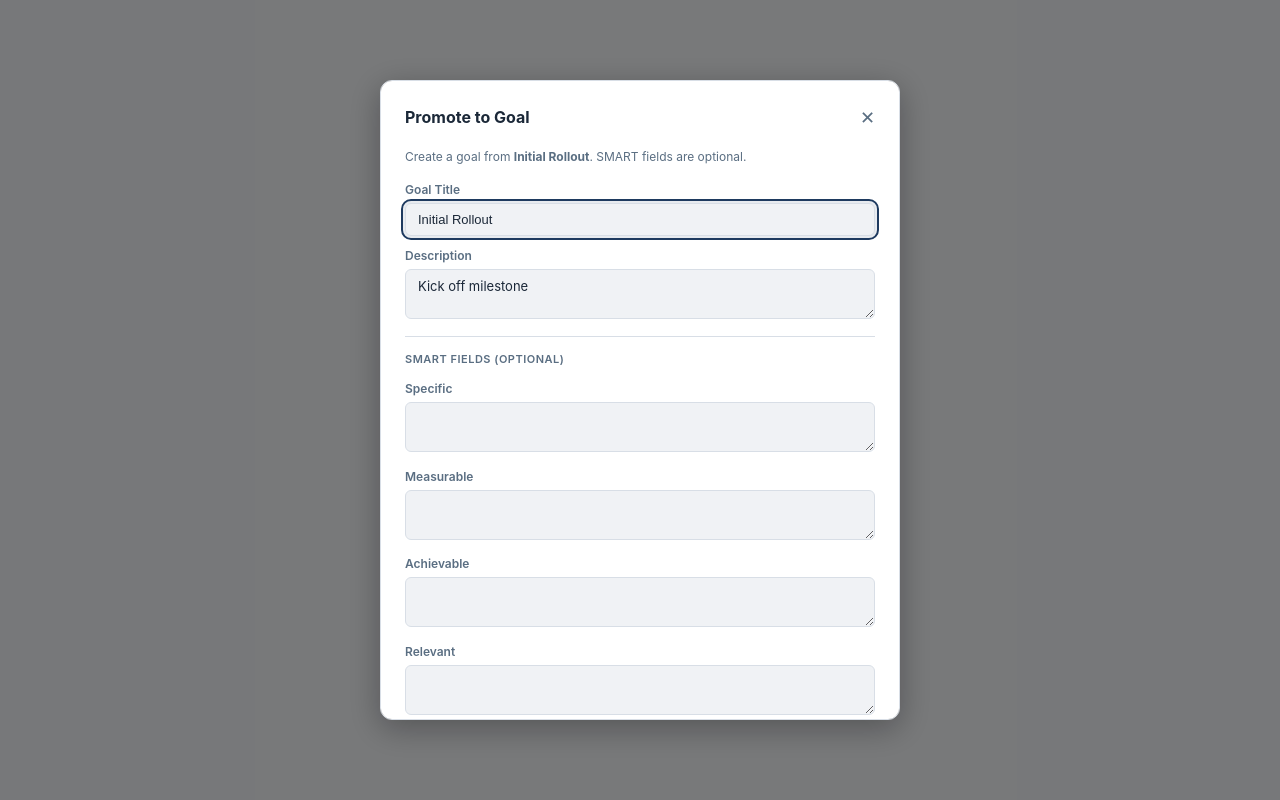
it: PromoteToGoal — dirty-state close guard (Task 9.14) › dirty Esc opens the DiscardConfirmDialog
The image size is (1280, 800).
Replace the text in the field named "Goal title" with "Extended goal title" at (640, 220), box top-left (405, 203), bottom-right (875, 236)
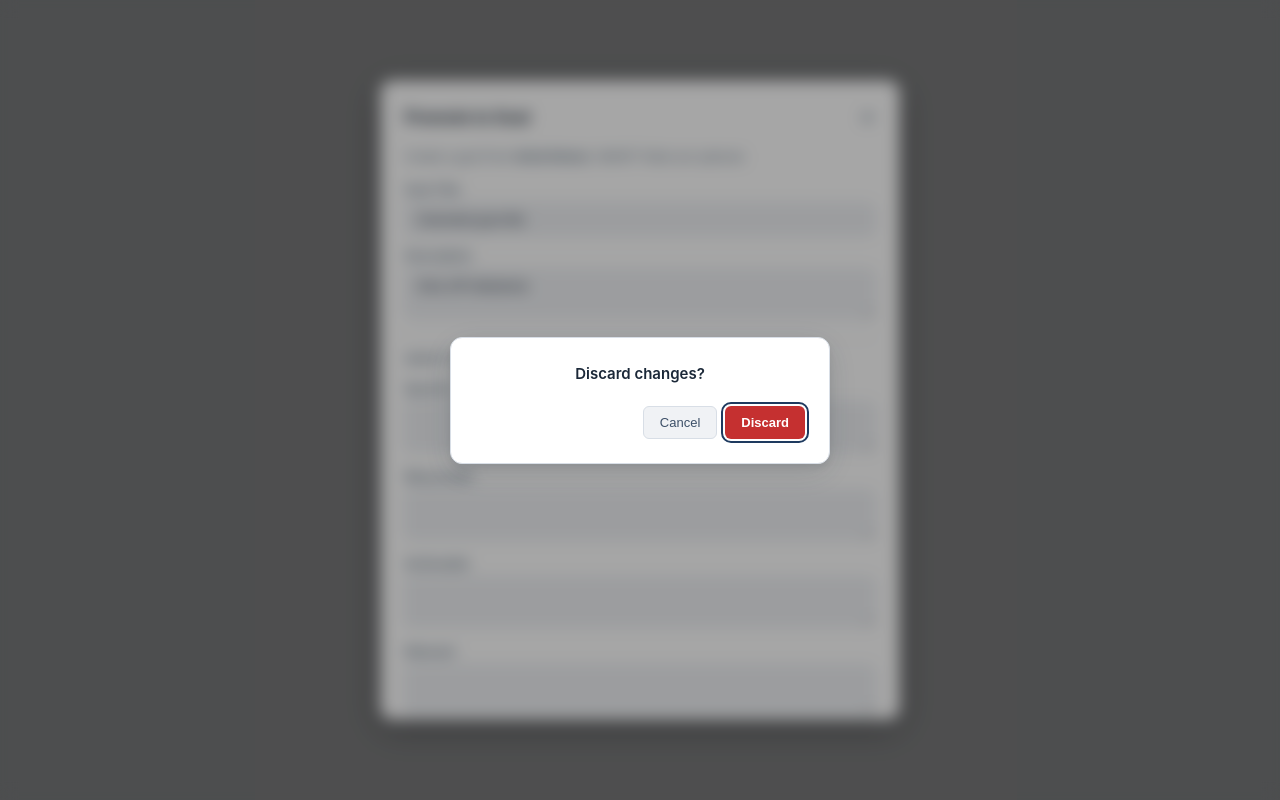
Expected: the dialog "Discard changes? Cancel Discard" is shown, top-left (450, 336), bottom-right (830, 464)
